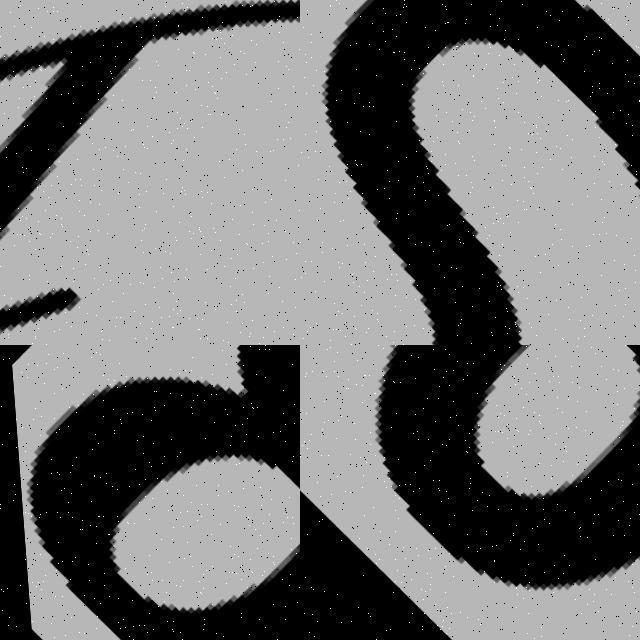8: (0, 345, 300, 640)
9: (300, 345, 640, 640)
S: (300, 0, 640, 345)
Y: (0, 0, 300, 345)
